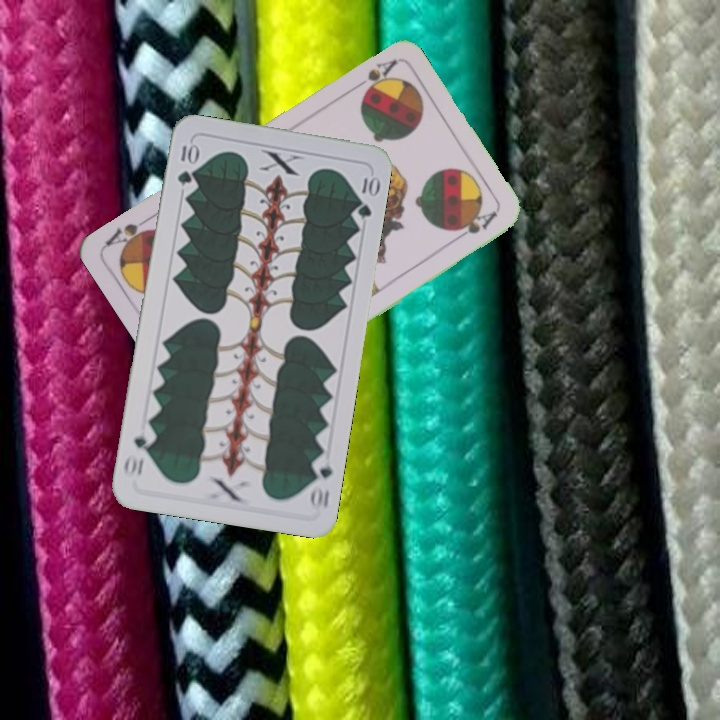G10: (306, 452, 335, 513), (173, 138, 199, 187)
SA: (346, 56, 399, 95)
